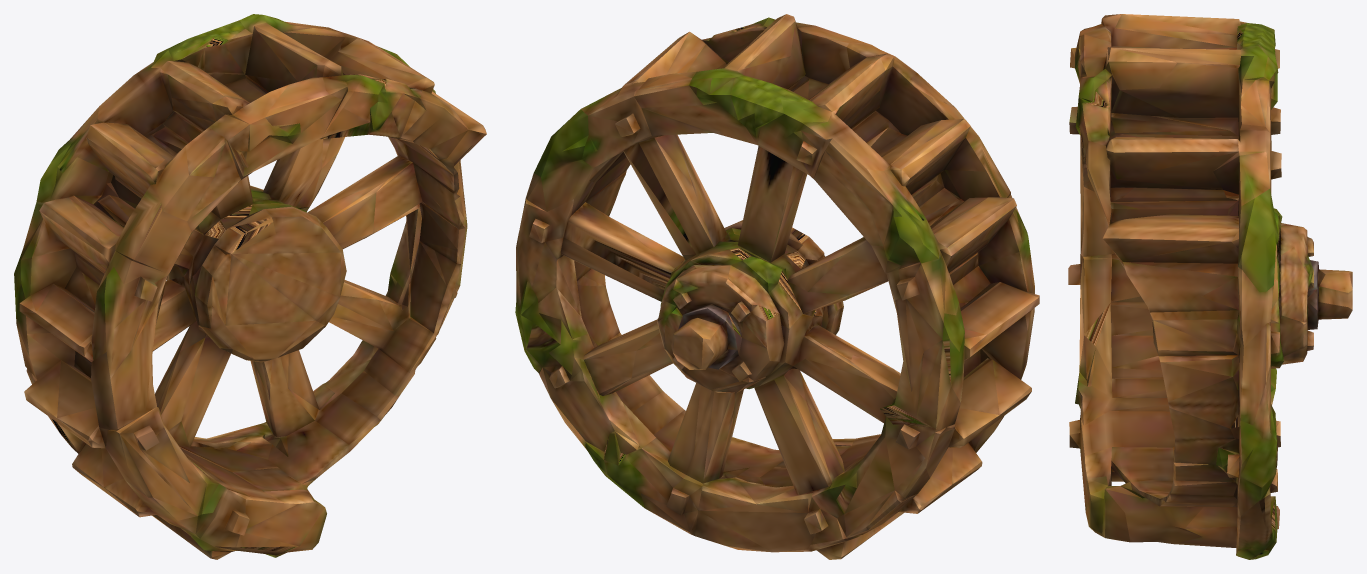
The model's file is mill-wheel.low.glb.
The picture shows the model from 3 angles, left to right: view 1: azimuth 30°, elevation 25°; view 2: azimuth 150°, elevation 25°; view 3: azimuth 270°, elevation 25°; orthographic projection. The views are drawn at different scales.
Visible parts, largest first — view 1: output_unwrapped; view 2: output_unwrapped; view 3: output_unwrapped.
Boxes of the visible parts, x1,y1,x2,y2 form: output_unwrapped: [14, 14, 486, 559]; output_unwrapped: [515, 14, 1039, 559]; output_unwrapped: [1068, 14, 1352, 559].
Bounding box in the file's own units: 1.86 × 1.9 × 0.972.
Materials: 1 (1 with a texture image).
